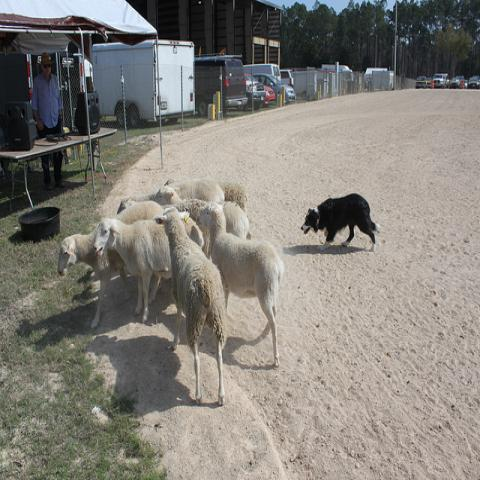car: (236, 74, 266, 110), (272, 82, 296, 100), (280, 70, 294, 90), (263, 85, 276, 106), (433, 73, 449, 89), (467, 76, 479, 90), (415, 76, 427, 88), (450, 78, 462, 88), (426, 78, 434, 88), (465, 79, 468, 88)
truck: (92, 38, 197, 128), (194, 53, 250, 112), (243, 64, 281, 81), (364, 67, 389, 90), (432, 73, 450, 89), (322, 64, 348, 72)
